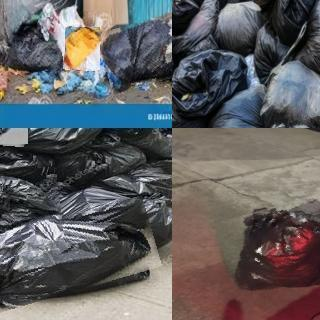Garbage: (0, 208, 159, 308), (219, 198, 320, 293), (47, 185, 172, 253), (172, 49, 244, 128), (0, 170, 63, 259), (99, 14, 172, 88), (259, 60, 320, 128), (0, 17, 62, 73), (252, 0, 320, 42), (127, 165, 172, 224), (212, 1, 261, 51), (20, 128, 105, 153), (64, 27, 101, 71), (306, 0, 320, 82), (172, 0, 195, 35)
